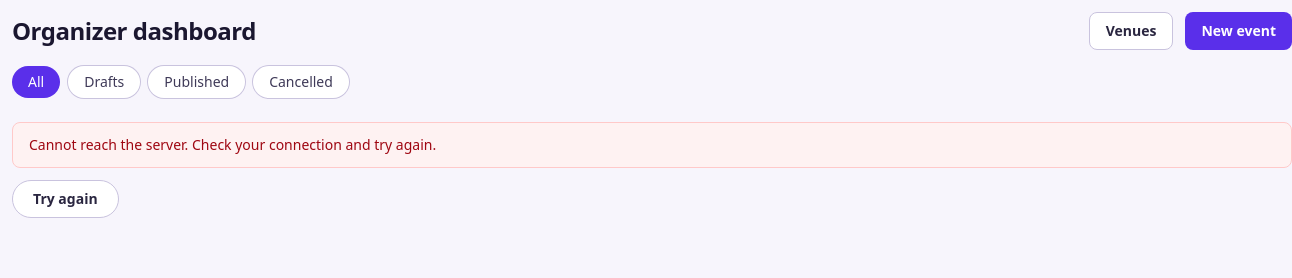
Test: OrganizerDashboardPage › shows a friendly error and lets the person try again
Expected: the message shows "Cannot reach the server", [29, 135, 436, 154]
What coordinates should you click on to do the following:
click the button "Try again"
I would click on:
 (65, 199)
Its box is [12, 180, 119, 218].
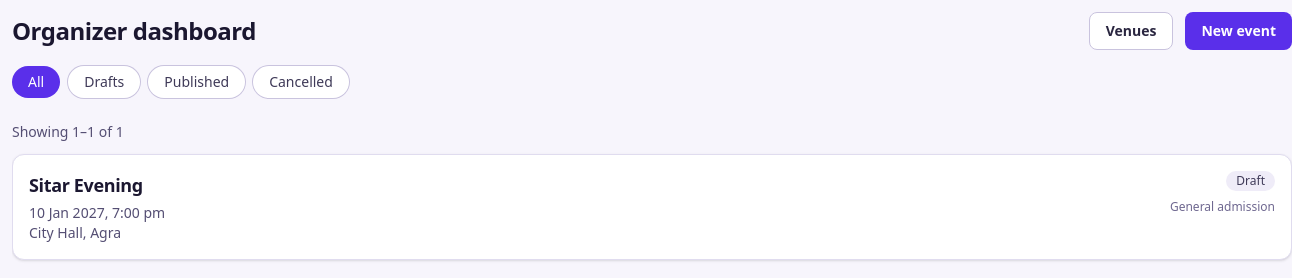
Expected: the link "Sitar Evening" is shown, [29, 173, 143, 197]
